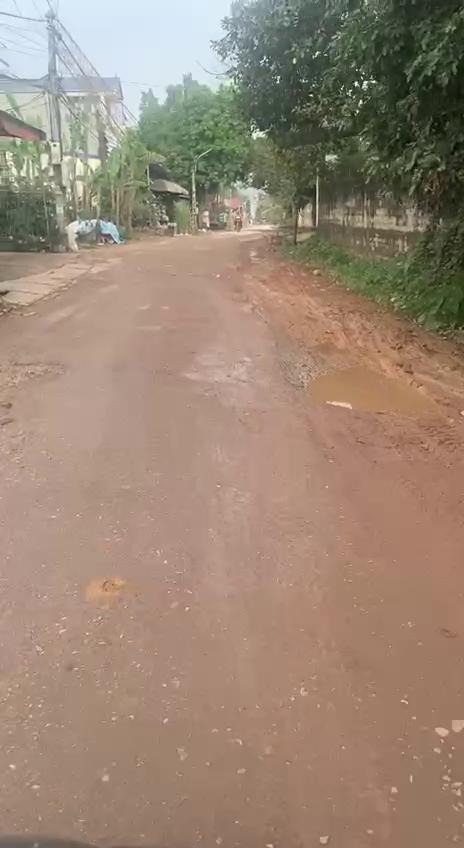pothole: (290, 358, 444, 419), (0, 358, 72, 392)
